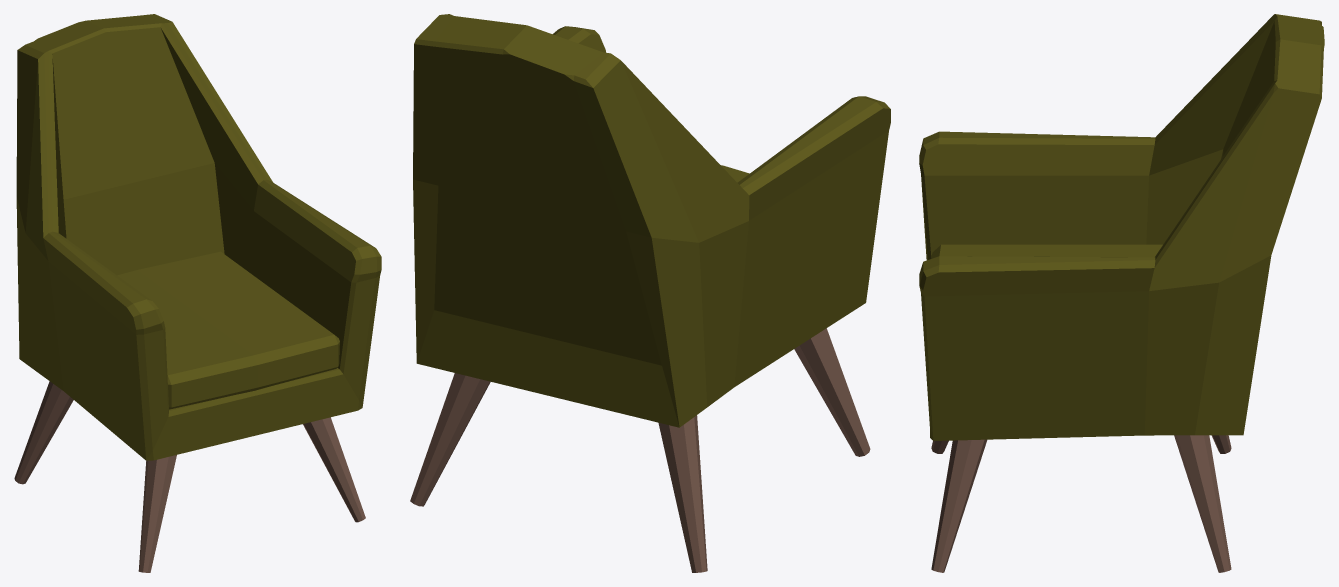
File: MinimalistModernChair1.glb
The picture shows the model from 3 angles, left to right: view 1: azimuth 30°, elevation 25°; view 2: azimuth 150°, elevation 25°; view 3: azimuth 270°, elevation 25°; orthographic projection. The views are drawn at different scales.
Visible parts, largest first — view 1: MinimalistModernChair1; view 2: MinimalistModernChair1; view 3: MinimalistModernChair1.
Part boxes in pixels (x1,y1,x2,y2): MinimalistModernChair1: (14, 14, 381, 572); MinimalistModernChair1: (410, 14, 890, 572); MinimalistModernChair1: (919, 14, 1324, 572).
Size of the model in its own units: 0.7724 by 1.22 by 0.9476.
